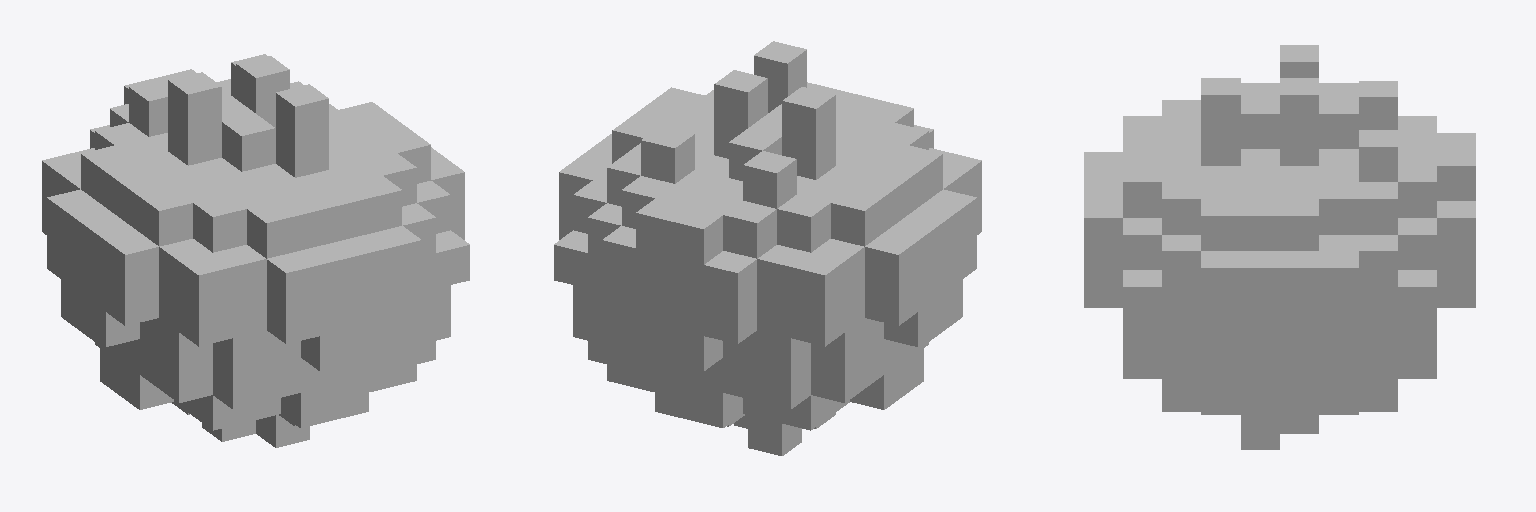
Rendered from radis 10 x 10.obj.
3 views of the same model, side by side, from view 1: azimuth 30°, elevation 25°; view 2: azimuth 150°, elevation 25°; view 3: azimuth 270°, elevation 25° (orthographic).
Parts seen in each view (by area): view 1: object 1; view 2: object 1; view 3: object 1.
Part boxes in pixels (bbox=[...]): object 1: bbox=[42, 54, 469, 447]; object 1: bbox=[554, 41, 981, 455]; object 1: bbox=[1084, 45, 1475, 449].
Bounding box in the file's own units: 1 × 1 × 1.